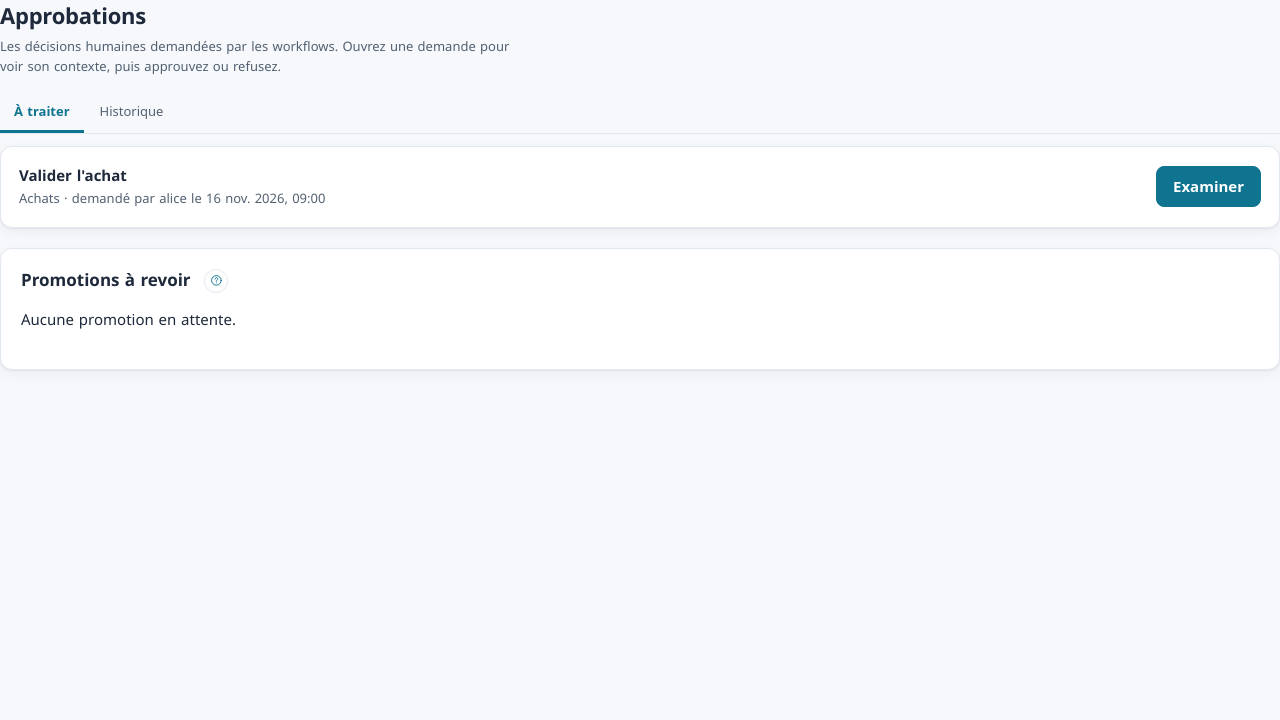
Test: Approbations : fenêtre d'une demande › sans droit d'approuver : ni commentaire ni boutons
Click the button with aria-label "Examiner : Valider l'achat" at coordinates (1208, 187), box [1156, 166, 1261, 207]
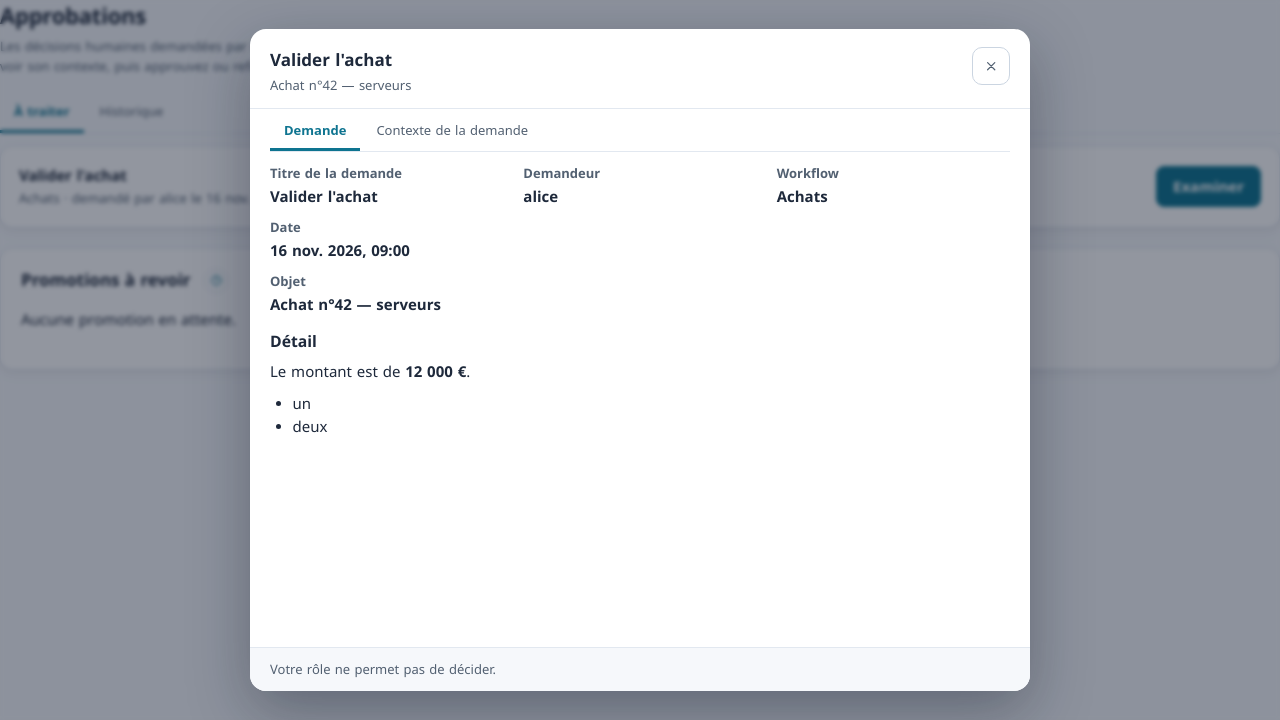
Result: the text "Votre rôle ne permet pas de décider." is shown at [270, 660, 496, 678]
